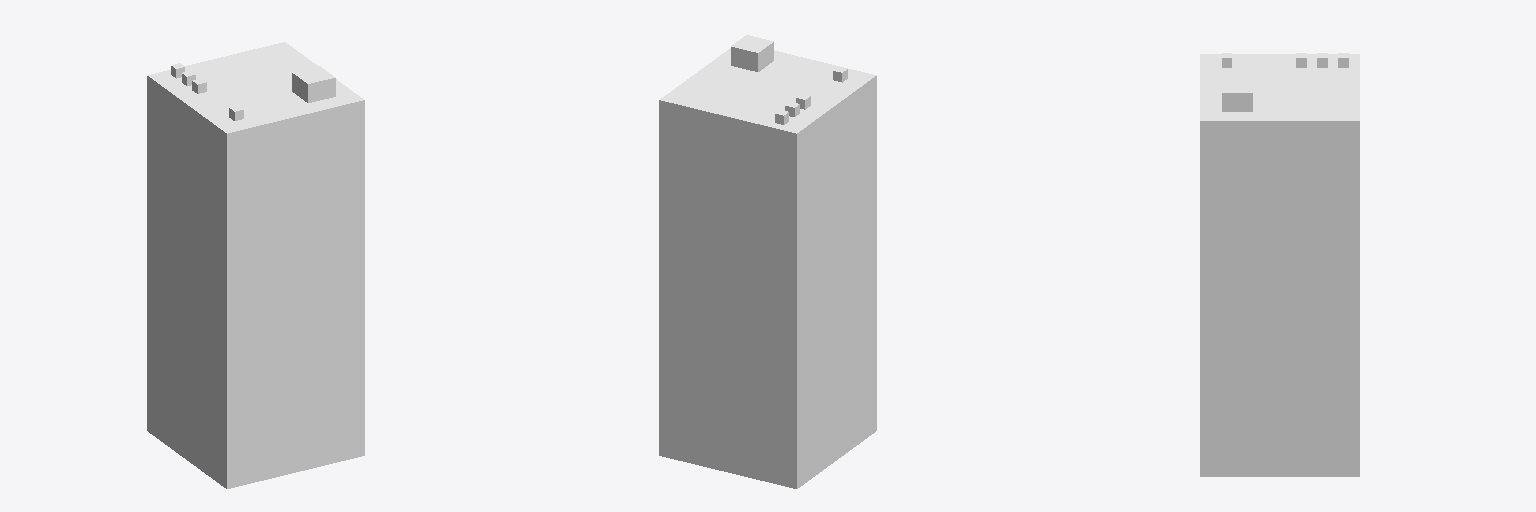
Rendered from kerrostalo.obj.
3 renders of one model, left to right at view 1: azimuth 30°, elevation 25°; view 2: azimuth 150°, elevation 25°; view 3: azimuth 270°, elevation 25°, orthographic.
Parts seen in each view (by area): view 1: kerrostalo; view 2: kerrostalo; view 3: kerrostalo.
Boxes of the visible parts, box(x1,y1,x2,y2) form: kerrostalo: box(147, 42, 364, 488); kerrostalo: box(659, 35, 876, 488); kerrostalo: box(1200, 53, 1359, 476).
Bounding box in the file's own units: 15 × 39 × 15.